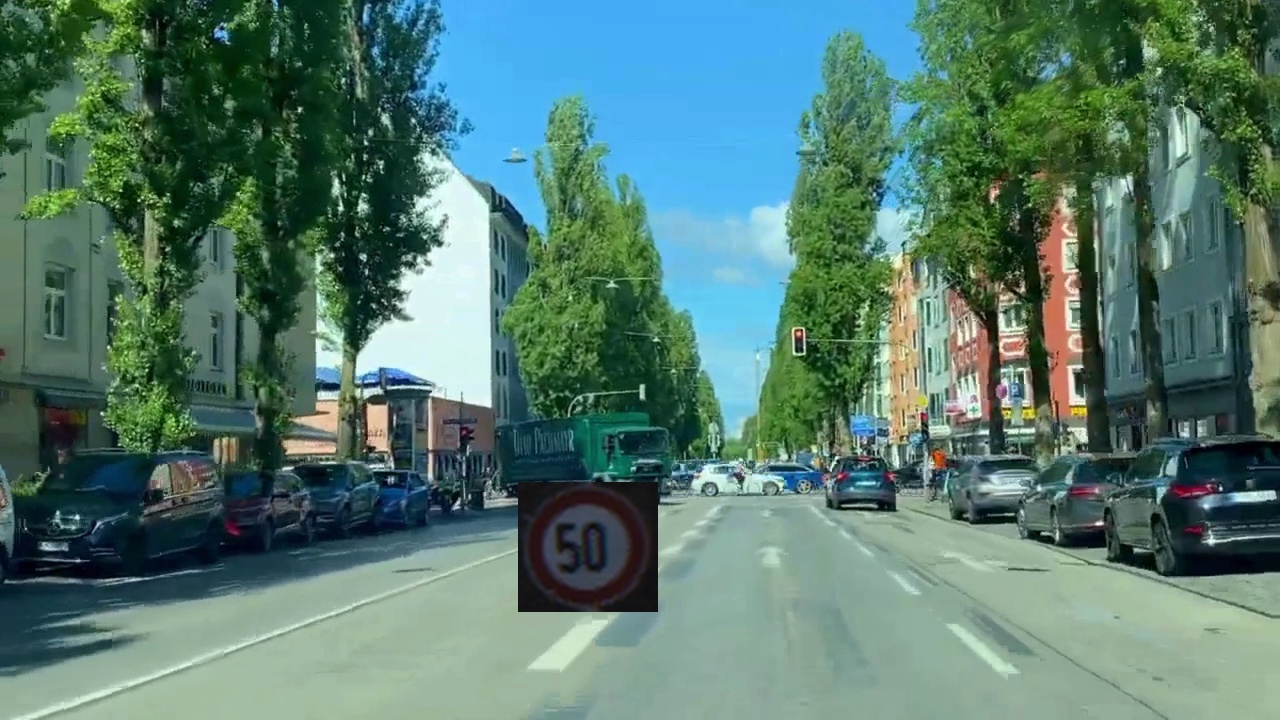Speed 50: (518, 482, 658, 612)
